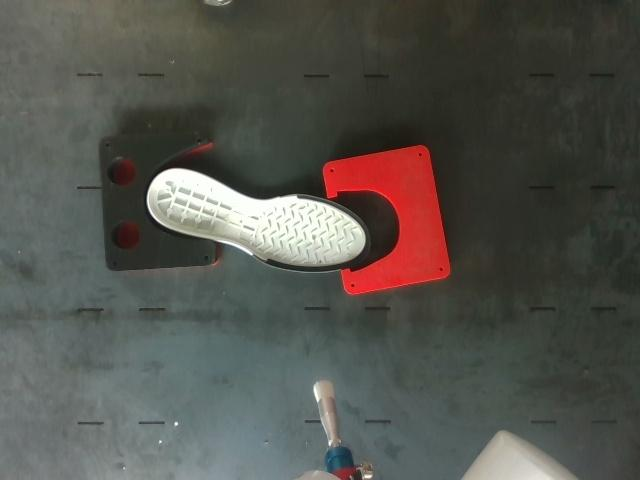shoes: (149, 170, 370, 273)
